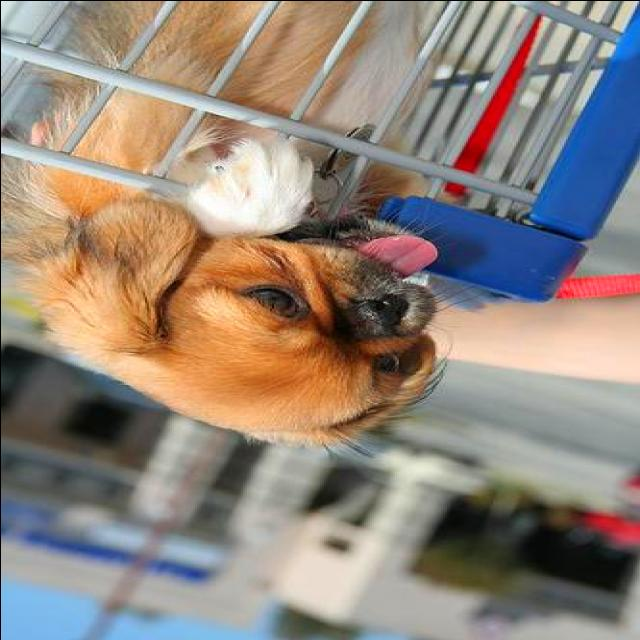pekinese: (0, 2, 452, 454)
